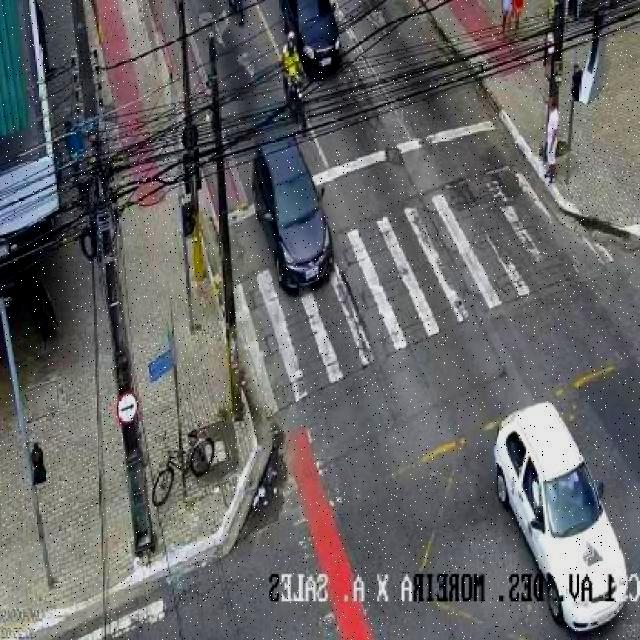Car: (495, 400, 626, 629), (252, 139, 334, 294), (284, 0, 343, 90)
Cycle: (278, 27, 316, 138)
